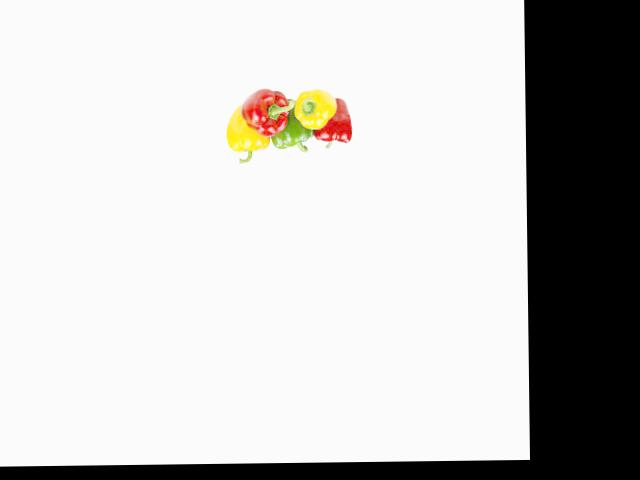bell_pepper: (313, 104, 355, 150)
